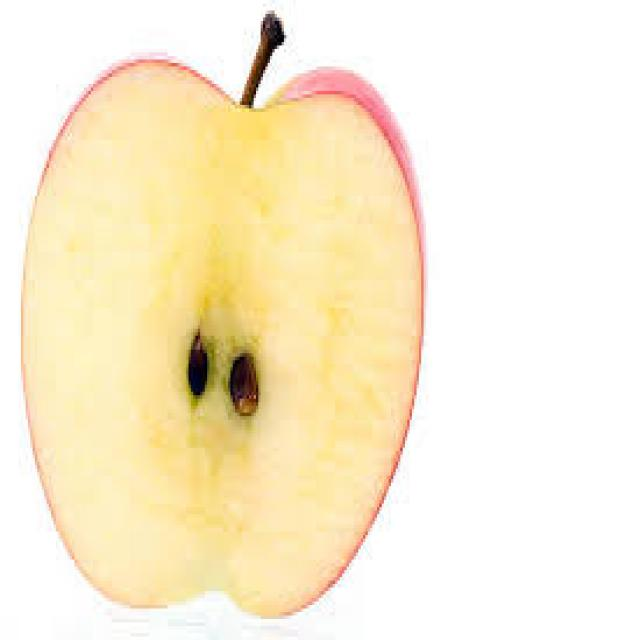Apple: (21, 55, 424, 615)
